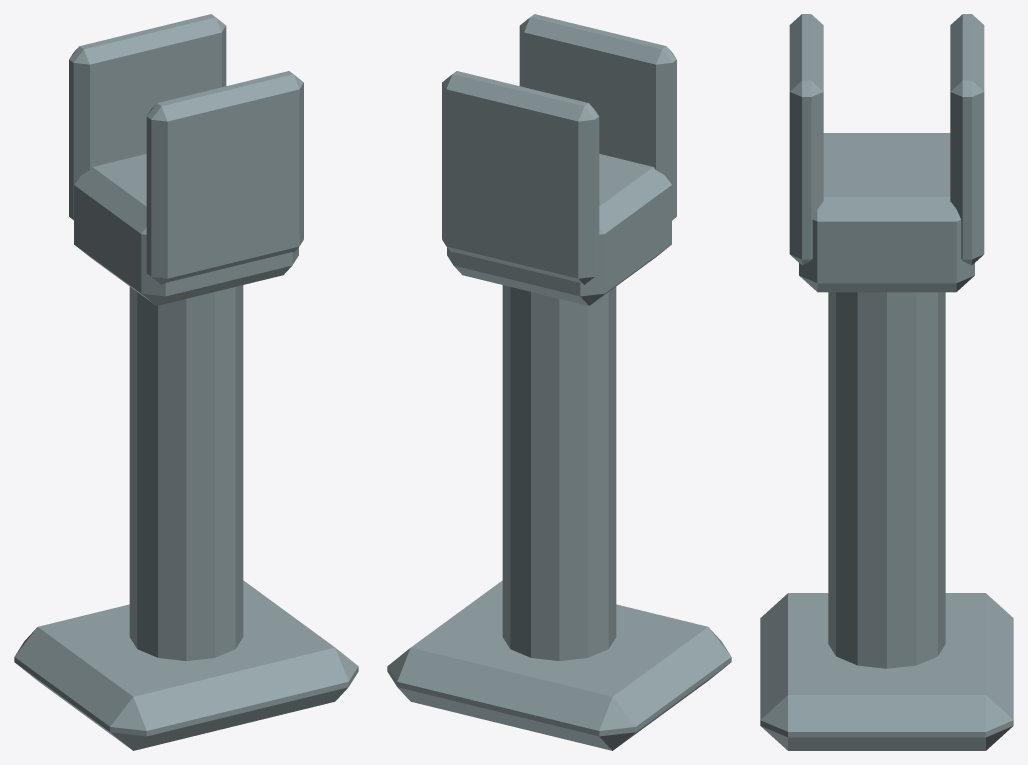
The model's file is Structure-StallFoot.fbx.
3 views of the same model, side by side, from view 1: azimuth 30°, elevation 25°; view 2: azimuth 150°, elevation 25°; view 3: azimuth 270°, elevation 25° (orthographic). The views are drawn at different scales.
Visible parts, largest first — view 1: Adjustable Stem, Floor Plate, Saddle Ear, Saddle Ear.001, Panel Saddle; view 2: Adjustable Stem, Floor Plate, Saddle Ear.001, Saddle Ear, Panel Saddle; view 3: Adjustable Stem, Floor Plate, Panel Saddle, Saddle Ear, Saddle Ear.001.
Part boxes in pixels (box(x1,y1,x2,y2)): Adjustable Stem: box(129, 285, 243, 660); Floor Plate: box(14, 580, 358, 750); Saddle Ear: box(146, 71, 303, 284); Saddle Ear.001: box(69, 14, 226, 220); Panel Saddle: box(74, 154, 298, 305); Adjustable Stem: box(502, 285, 616, 660); Floor Plate: box(387, 580, 731, 750); Saddle Ear.001: box(442, 71, 599, 284); Saddle Ear: box(519, 14, 676, 220); Panel Saddle: box(447, 154, 671, 305); Adjustable Stem: box(828, 292, 945, 668); Floor Plate: box(760, 593, 1013, 750); Panel Saddle: box(799, 133, 974, 292); Saddle Ear: box(789, 14, 823, 265); Saddle Ear.001: box(950, 14, 984, 265).
Size of the model in its own units: 0.096 by 0.233 by 0.082.
